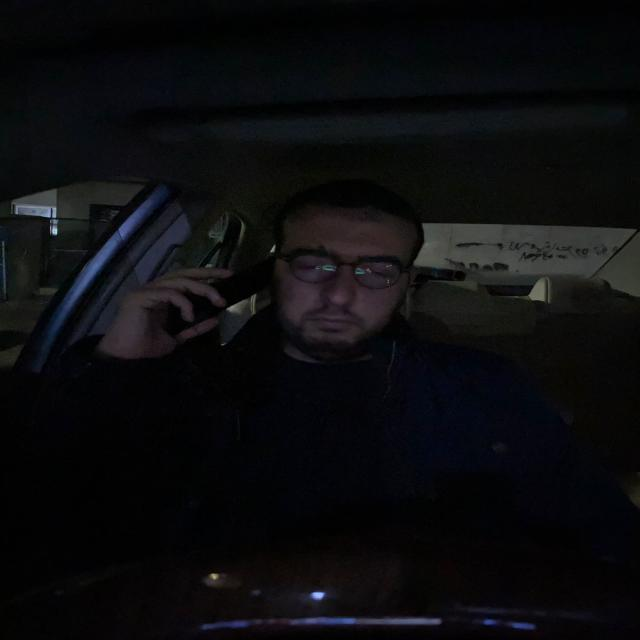phone: (164, 256, 270, 334)
